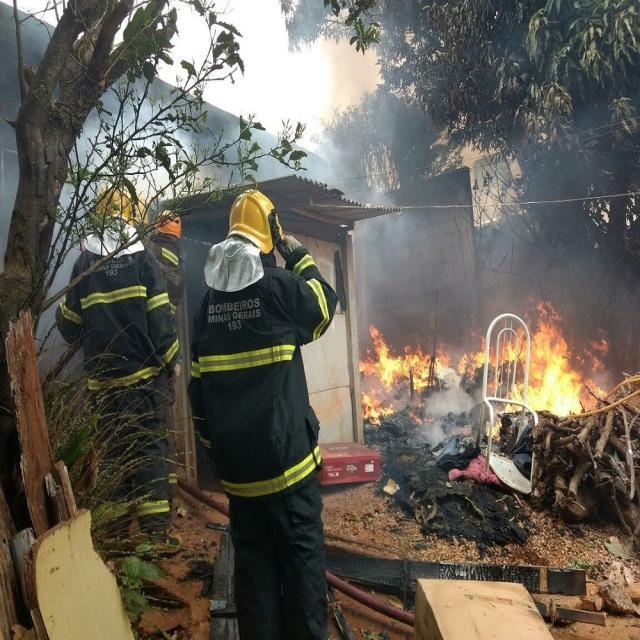Fire: (359, 294, 612, 426)
Smoke: (34, 90, 640, 450)
